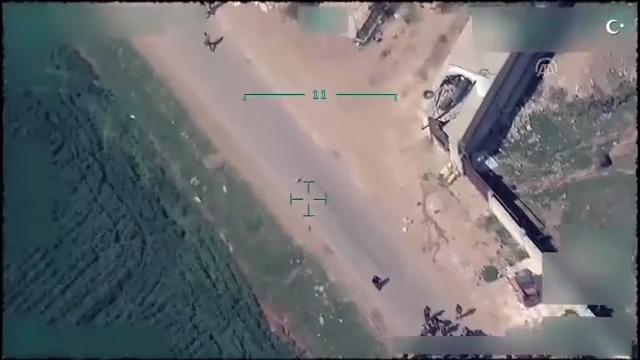insan: (371, 270, 387, 291)
